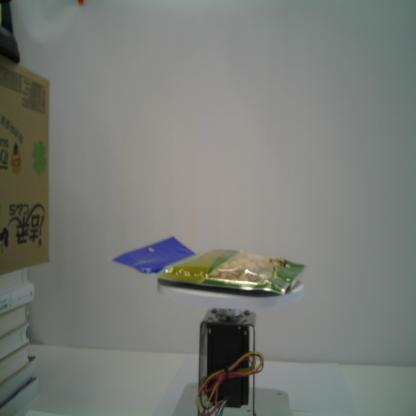Dried Fruit: (111, 235, 306, 296)
